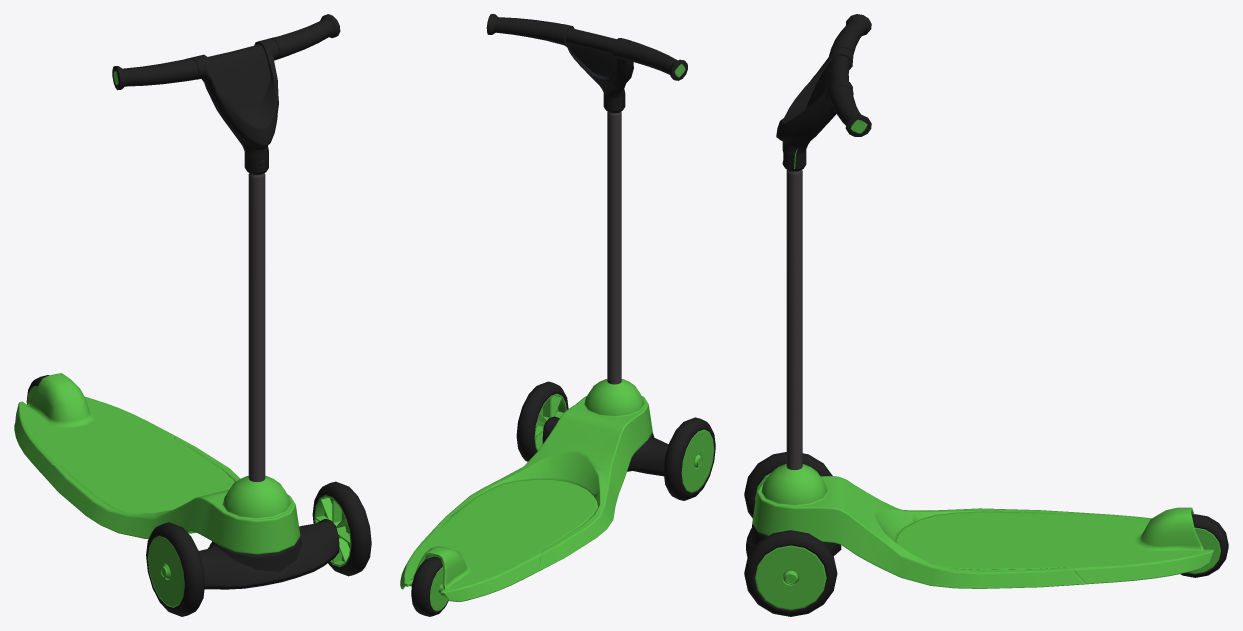
File: scooter_comp.glb
The picture shows the model from 3 angles, left to right: view 1: azimuth 30°, elevation 25°; view 2: azimuth 150°, elevation 25°; view 3: azimuth 270°, elevation 25°; orthographic projection. The views are drawn at different scales.
Visible parts, largest first — view 1: body, steer, wheels_front; view 2: body, steer, wheels_front, wheels_rear; view 3: body, steer, wheels_front, wheels_rear.
Part boxes in pixels (x1=…): body: x1=14, y1=373, x2=300, y2=554; steer: x1=112, y1=14, x2=340, y2=589; wheels_front: x1=146, y1=481, x2=371, y2=616; body: x1=400, y1=379, x2=652, y2=601; steer: x1=486, y1=14, x2=687, y2=476; wheels_front: x1=516, y1=381, x2=715, y2=500; wheels_rear: x1=409, y1=556, x2=448, y2=616; body: x1=752, y1=464, x2=1213, y2=588; steer: x1=746, y1=14, x2=871, y2=557; wheels_front: x1=744, y1=452, x2=837, y2=616; wheels_rear: x1=1180, y1=514, x2=1228, y2=577.
Size of the model in its own units: 0.2976 by 0.6779 by 0.5823.
Materials: 1 (1 with a texture image).
